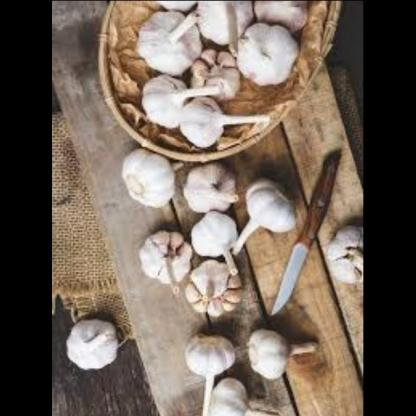garlic: (244, 318, 328, 388), (138, 8, 211, 77), (186, 258, 253, 330), (131, 224, 202, 289), (182, 44, 257, 105), (240, 22, 303, 94), (110, 144, 179, 209), (64, 302, 126, 374), (242, 173, 309, 236), (192, 203, 245, 276), (186, 328, 237, 403), (317, 212, 364, 292), (180, 168, 247, 222), (201, 376, 286, 416), (144, 74, 198, 131), (200, 0, 258, 52), (179, 94, 238, 145), (250, 1, 317, 35)
